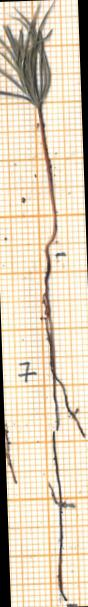flower: (0, 0, 59, 109)
root: (32, 252, 88, 604)
stem: (31, 112, 62, 254)
